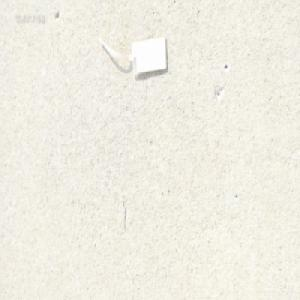LuggageTag: (96, 32, 169, 79)
